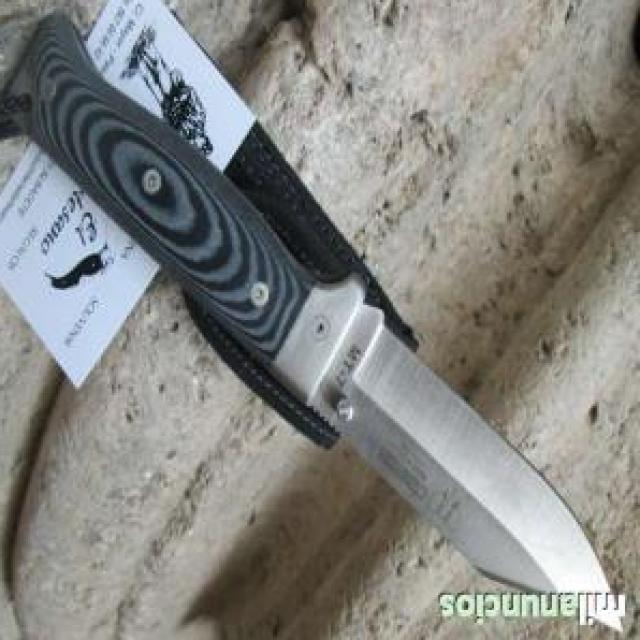knife: (239, 242, 634, 640)
